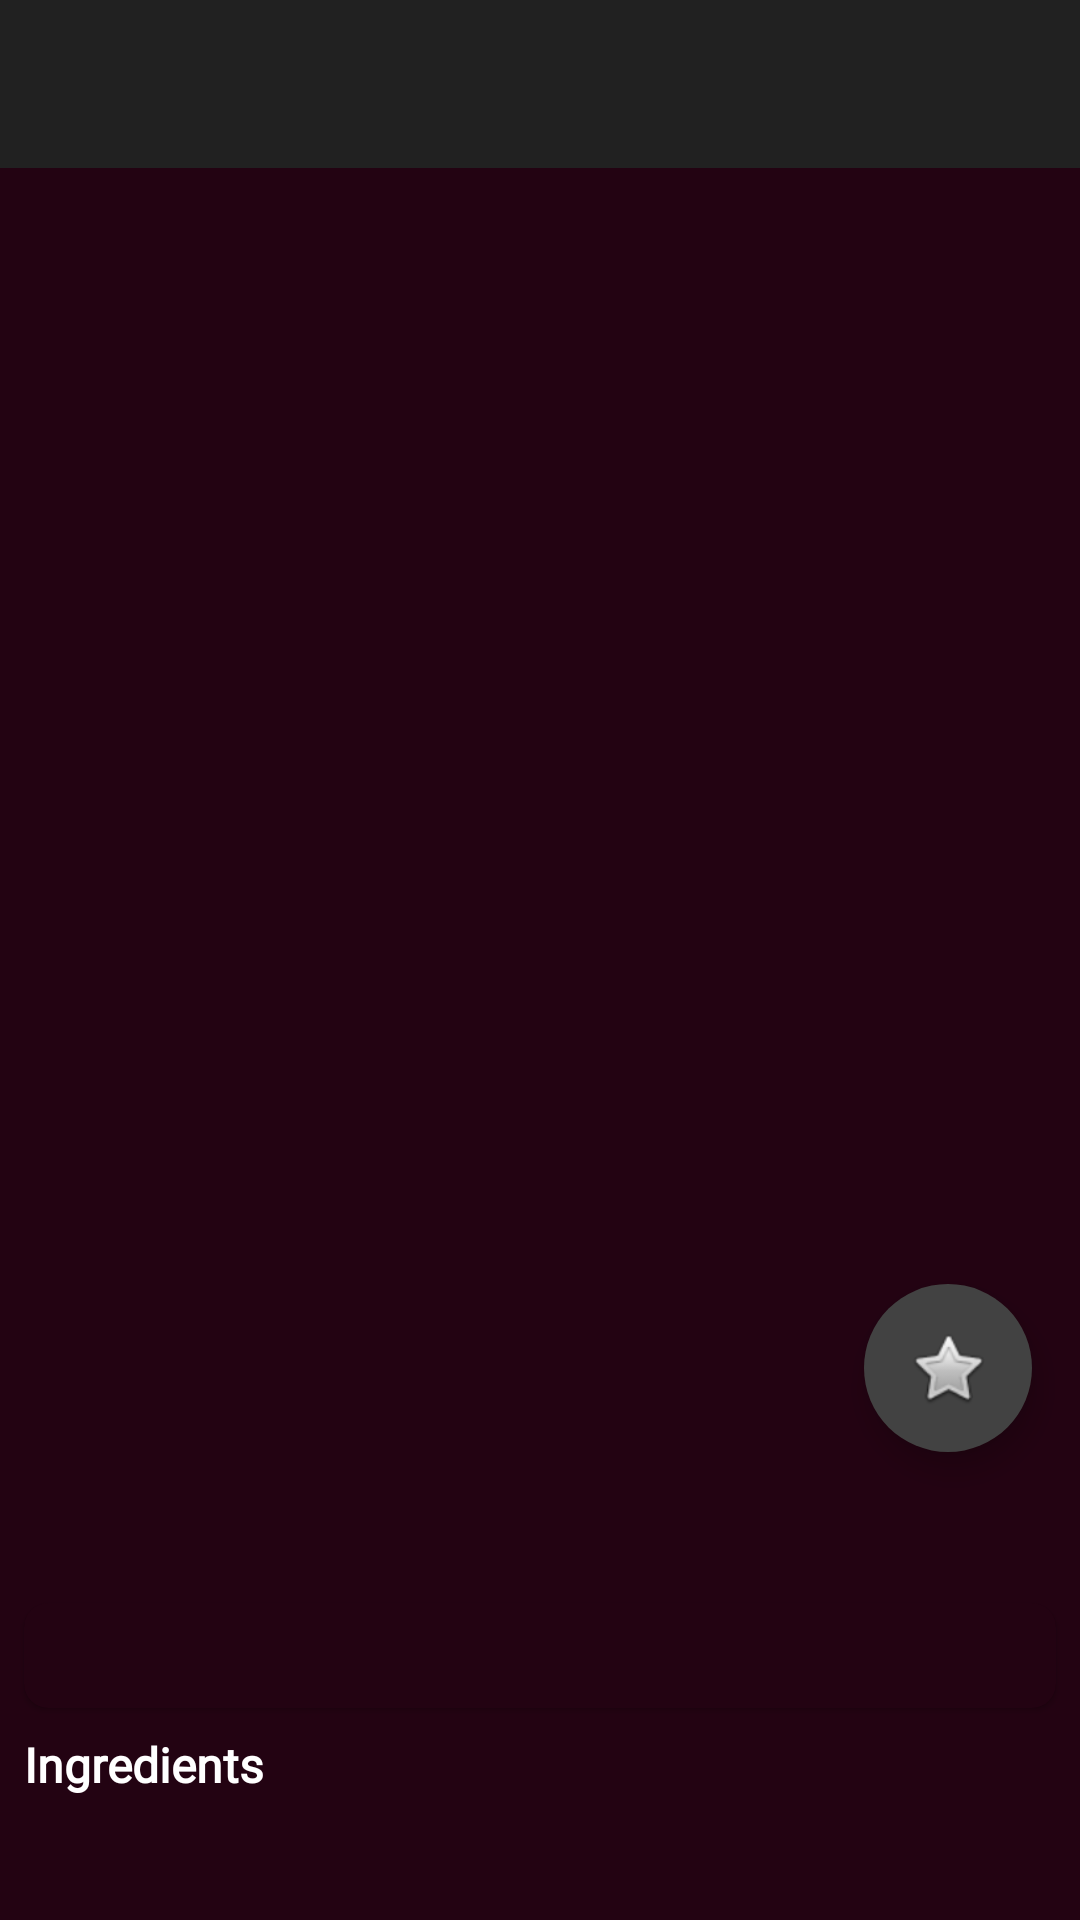

Icon bounding boxes for this 1080 x 1920 phone screenshot, format [x1,y1,x2,y2]:
Button add to favorite: [864,1284,1032,1452]
